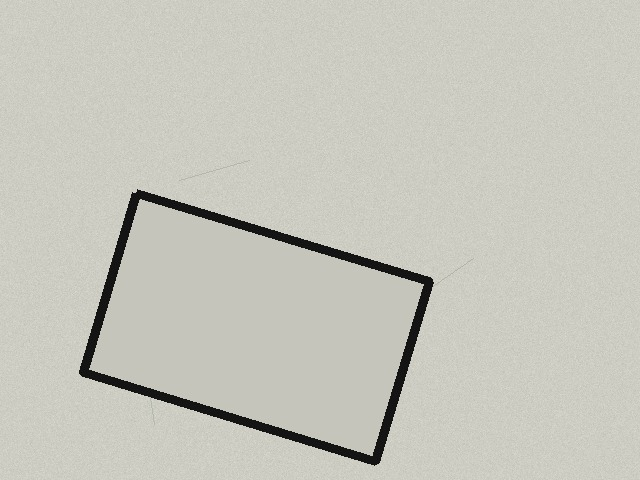parking_area: (83, 193, 429, 461)
